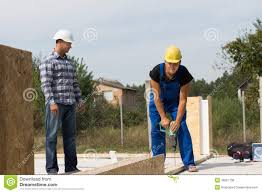helmet: (162, 47, 182, 63), (54, 30, 75, 43)
